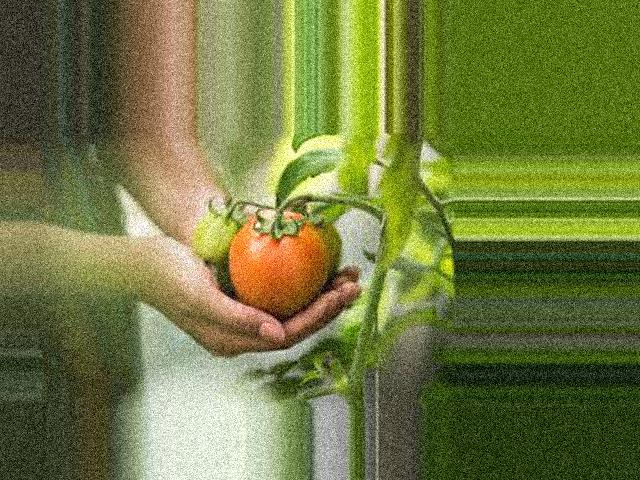tomato: (228, 211, 327, 313)
